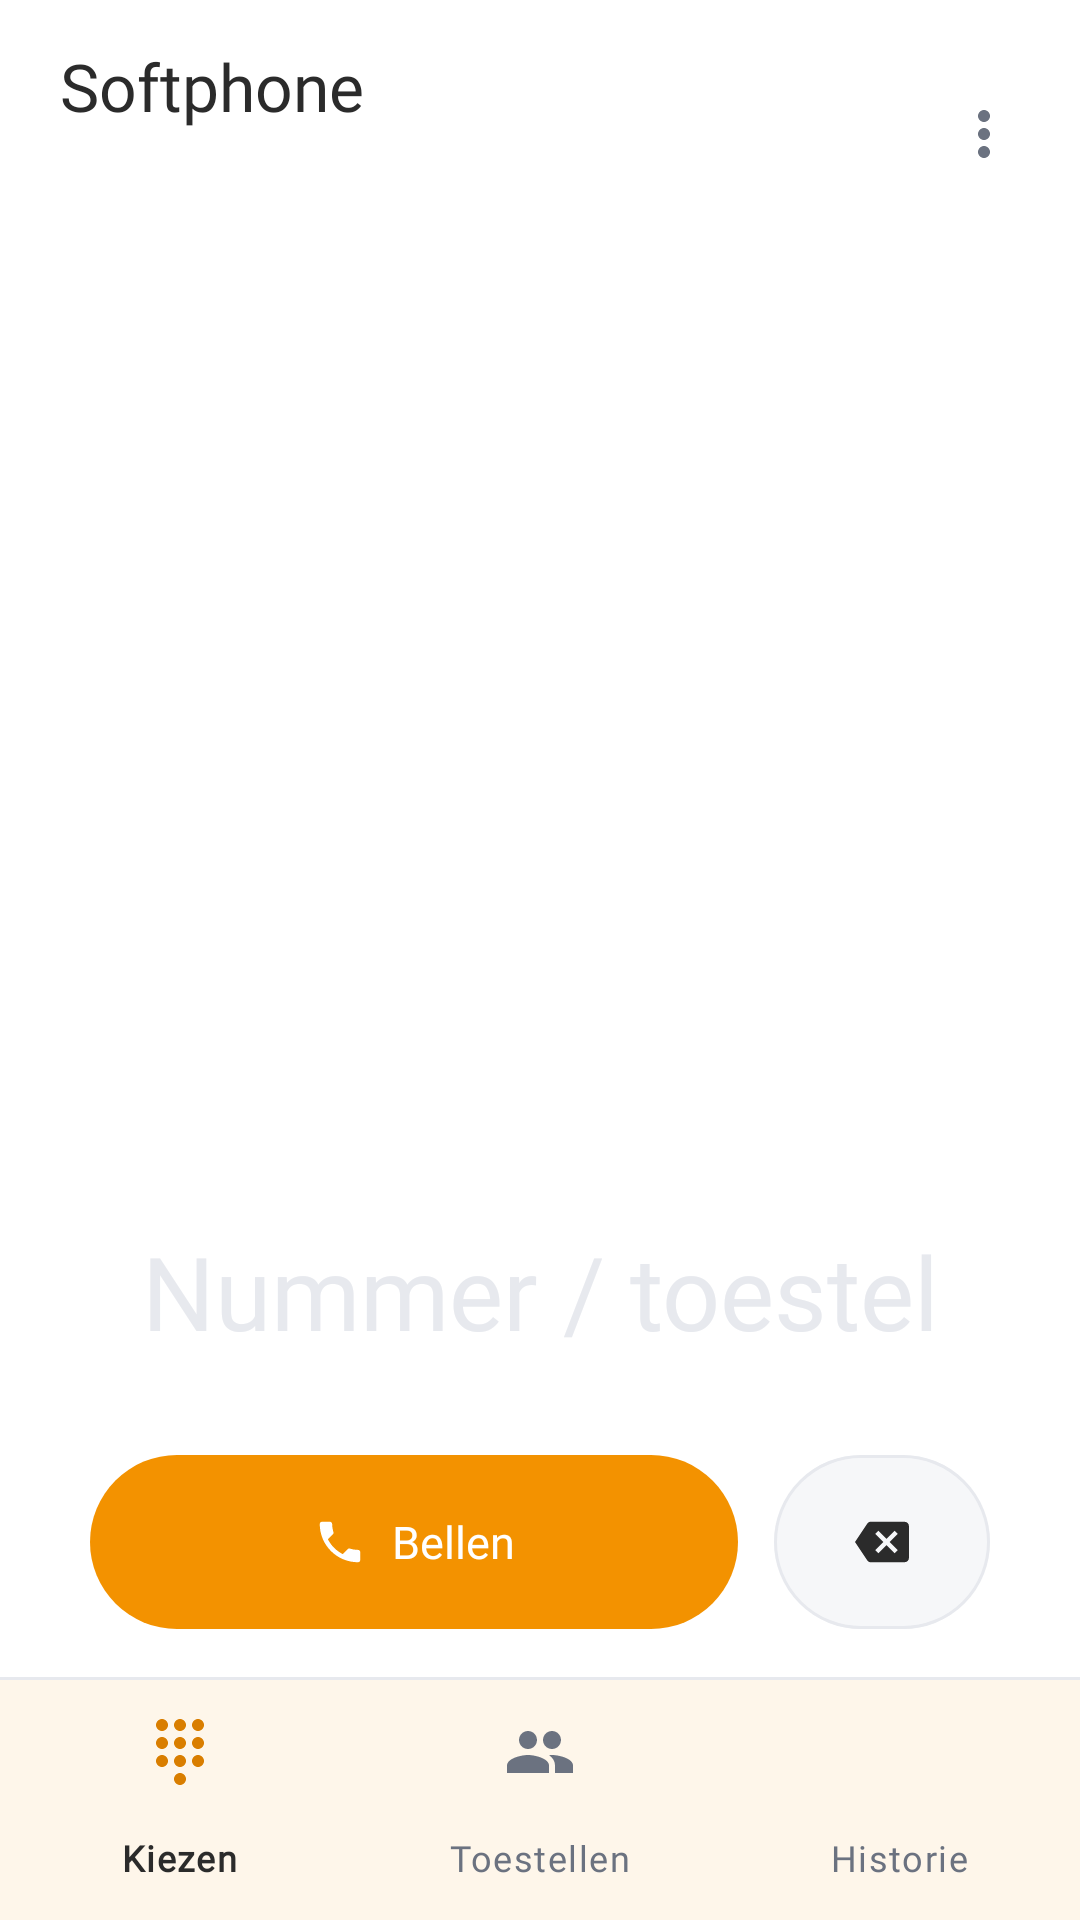

Locate icon controls on the screen. Image size 1080px×1920px, boxes as region(x1, y1, x2, y2).
Menu: region(978, 110, 990, 158)
Wissen: region(855, 1521, 909, 1563)
